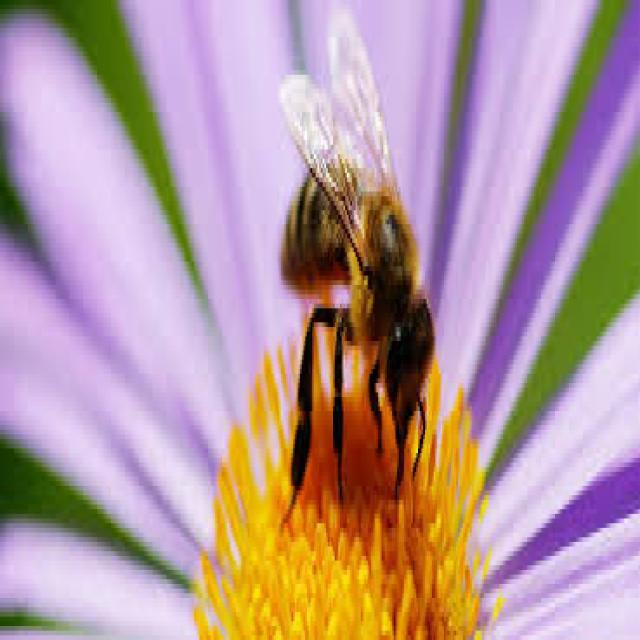Bees: (274, 6, 436, 536)
